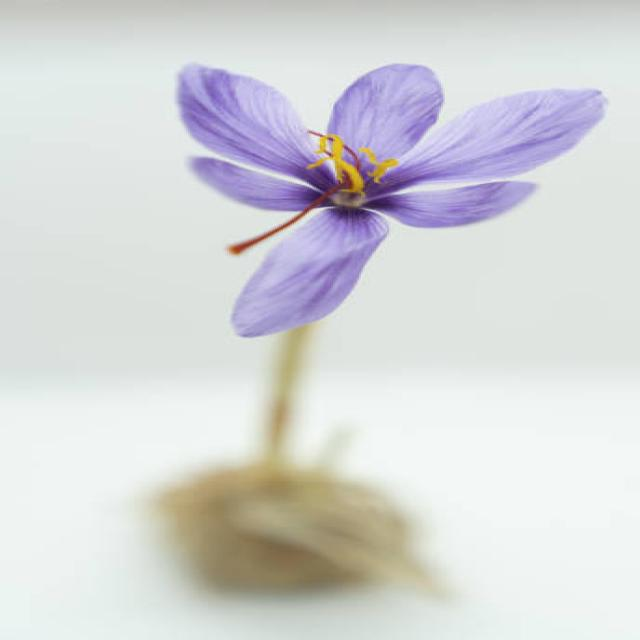saffron open: (180, 65, 605, 336)
